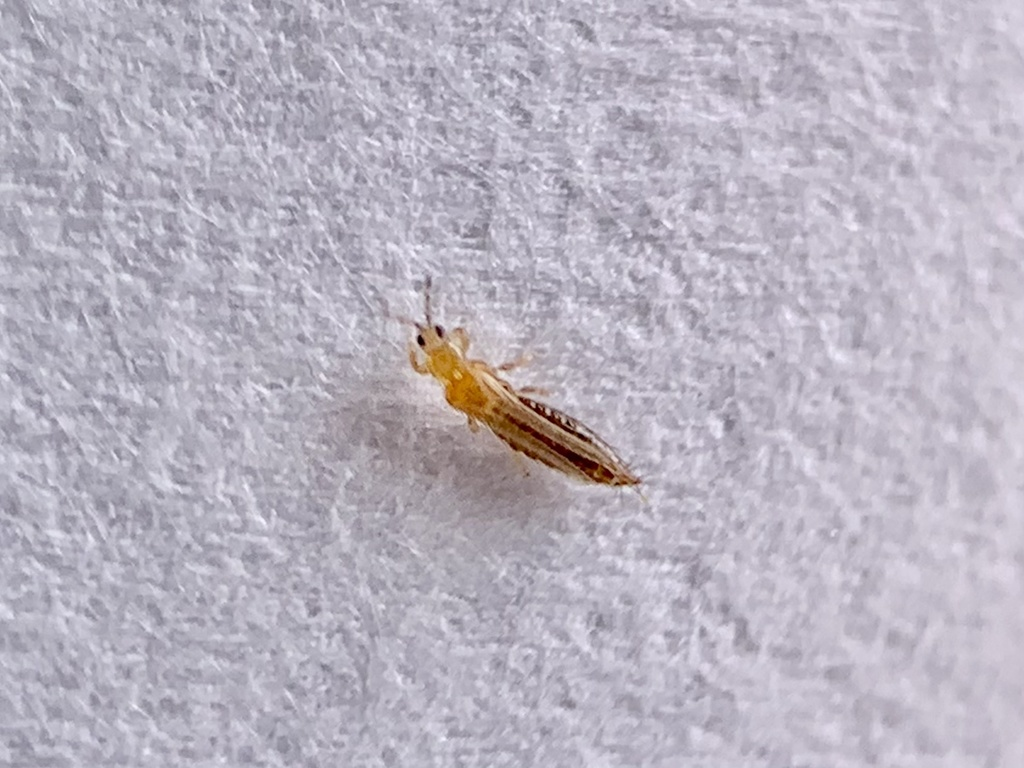tiny_pests: (275, 202, 720, 605), (275, 203, 721, 605)
